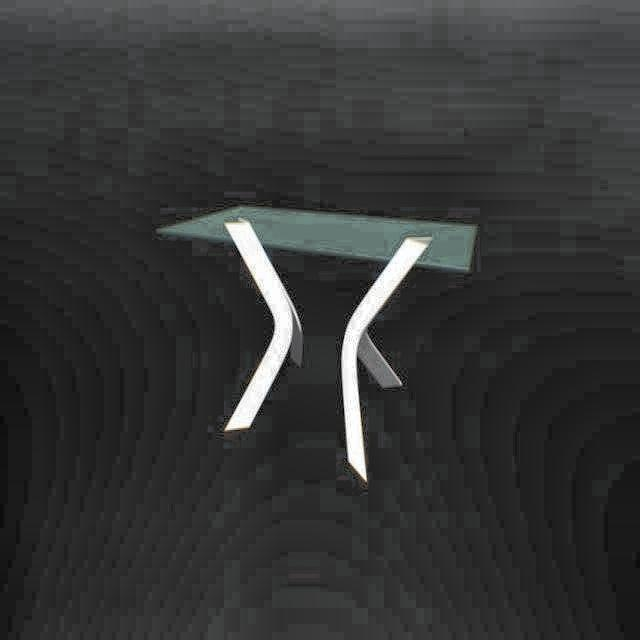mesa: (157, 202, 478, 484)
